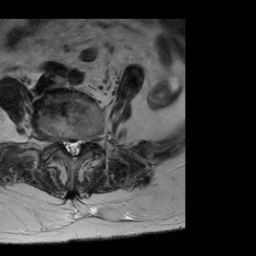CCS_stenosis: (69, 135, 77, 162)
LFS_stenosis: (83, 131, 90, 146)
LLS_stenosis: (76, 135, 83, 156)
RFS_severe_stenosis: (54, 132, 63, 151)
RLS_stenosis: (63, 134, 70, 155)
